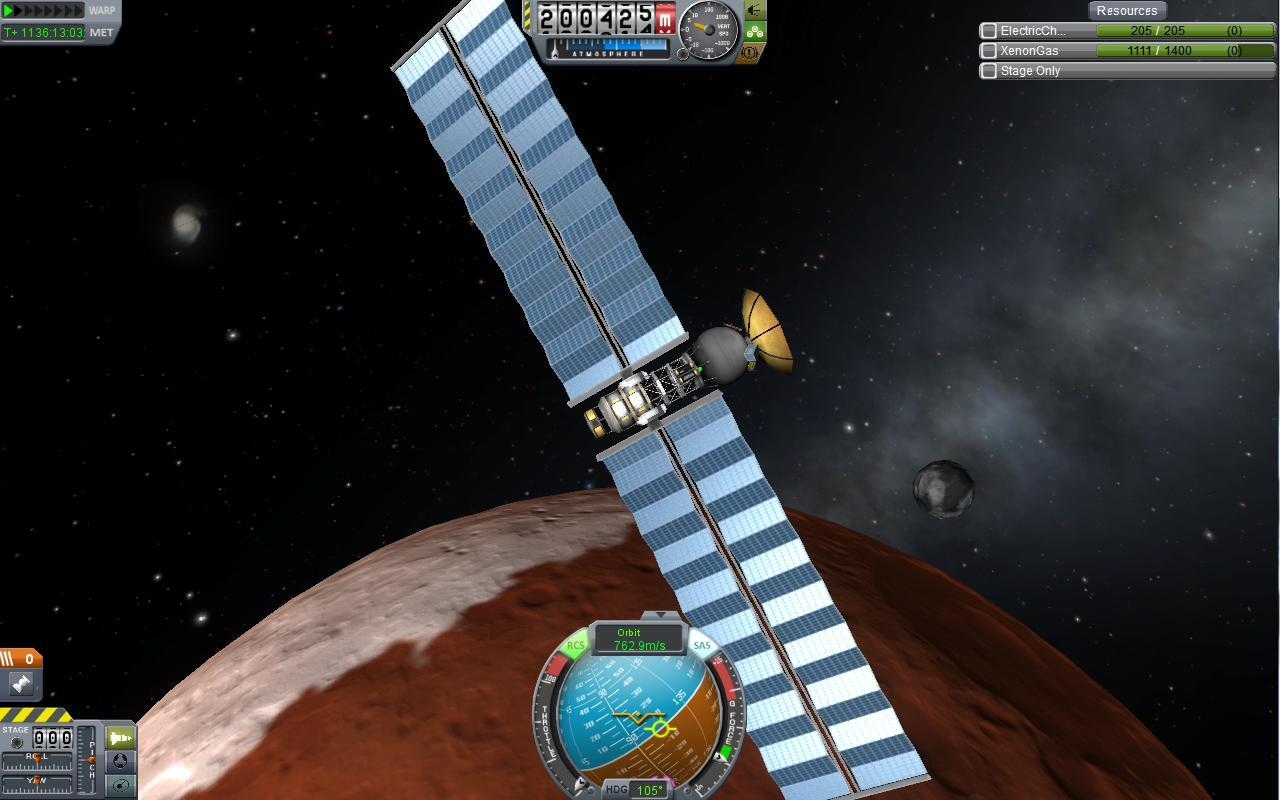antenna: (739, 284, 797, 379)
body: (595, 322, 752, 435)
solar: (592, 387, 936, 800), (386, 0, 693, 411)
